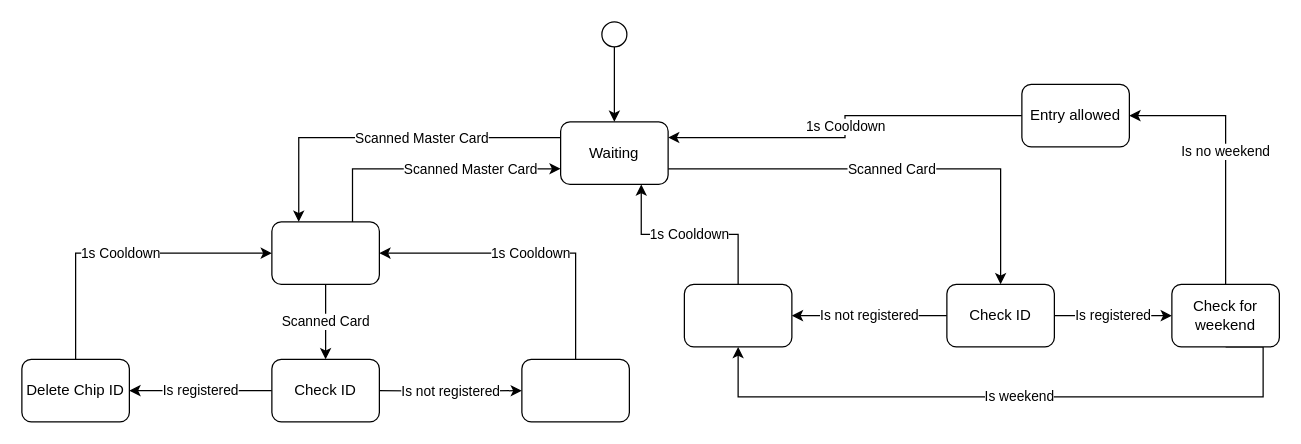
This 1301x444 diagram has some shape labels left out. The shapes that lost their labels are listed below. From the top down, each one's centre as x and y in pixels, then its label:
At point 325,252: "Register Mode".
At point 737,315: "Entry denied".
At point 575,390: "Add Chip ID".
